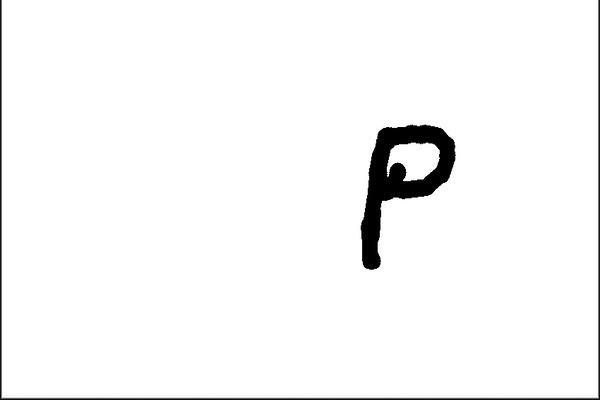P: (346, 106, 468, 287)
